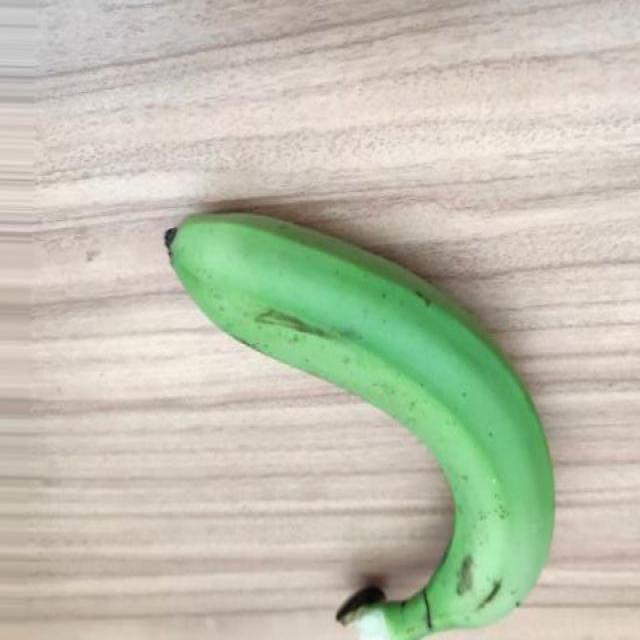Unripe: (162, 209, 553, 640)
